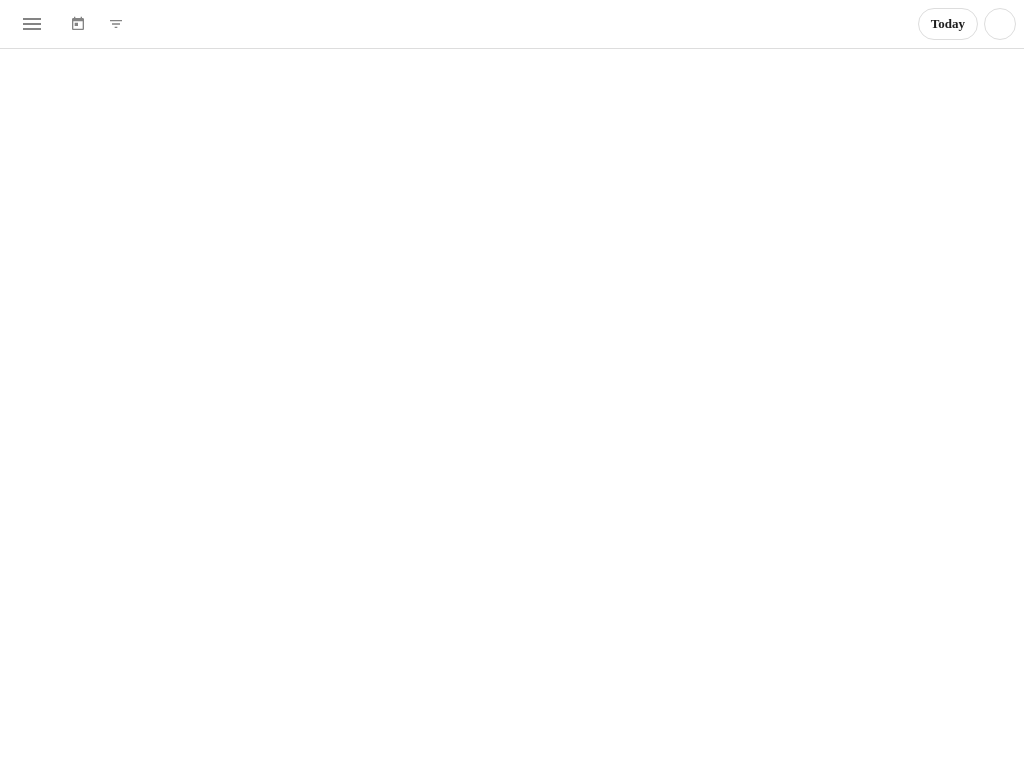
Test: MobileAppNavigation › opens a bottom sheet titled 'Navigate to this day' with a mini calendar
Step 1. Click the button named "Navigate to a day" → coordinates (78, 24), box x1=62 y1=8 x2=94 y2=40
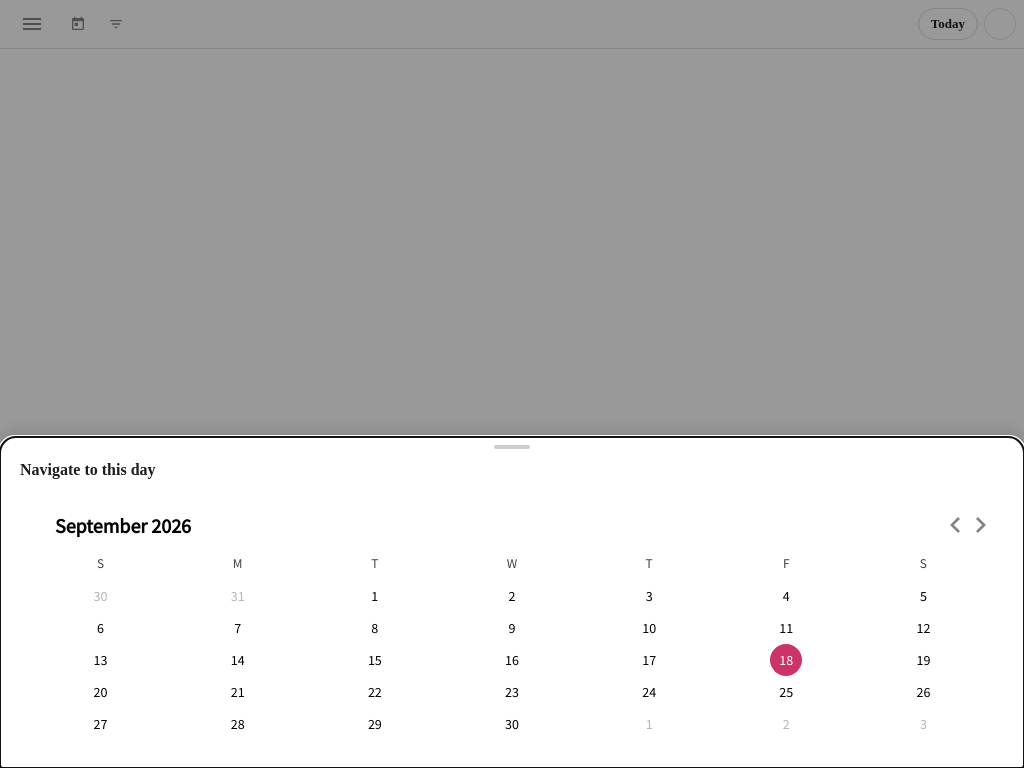
Now the dialog "Navigate to this day" is shown, box x1=0 y1=437 x2=1023 y2=767
